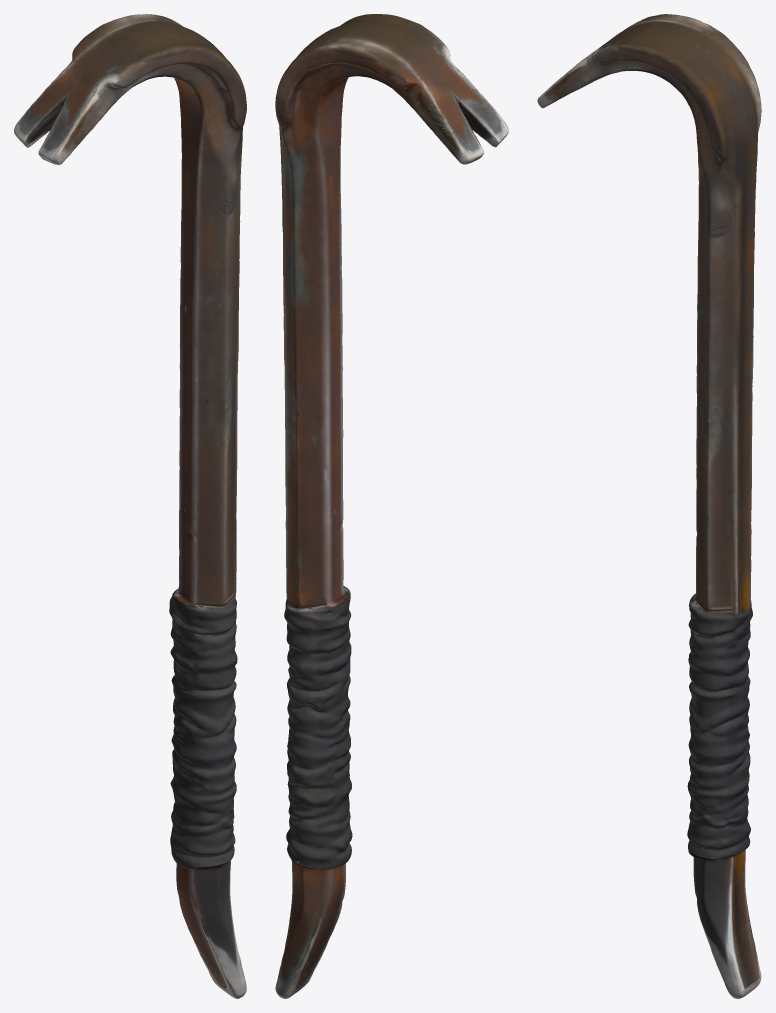
The model's file is Worn_and_tarnished_cr_1030145203_texture.fbx.
3 views of the same model, side by side, from view 1: azimuth 30°, elevation 25°; view 2: azimuth 150°, elevation 25°; view 3: azimuth 330°, elevation 25° (orthographic). The views are drawn at different scales.
Parts seen in each view (by area): view 1: input; view 2: input; view 3: input.
Part boxes in pixels (x1,y1,x2,y2): input: [14, 14, 246, 998]; input: [275, 14, 508, 998]; input: [537, 14, 761, 998].
Bounding box in the file's own units: 41.78 × 190 × 16.63.
1 material, 1 textured.
